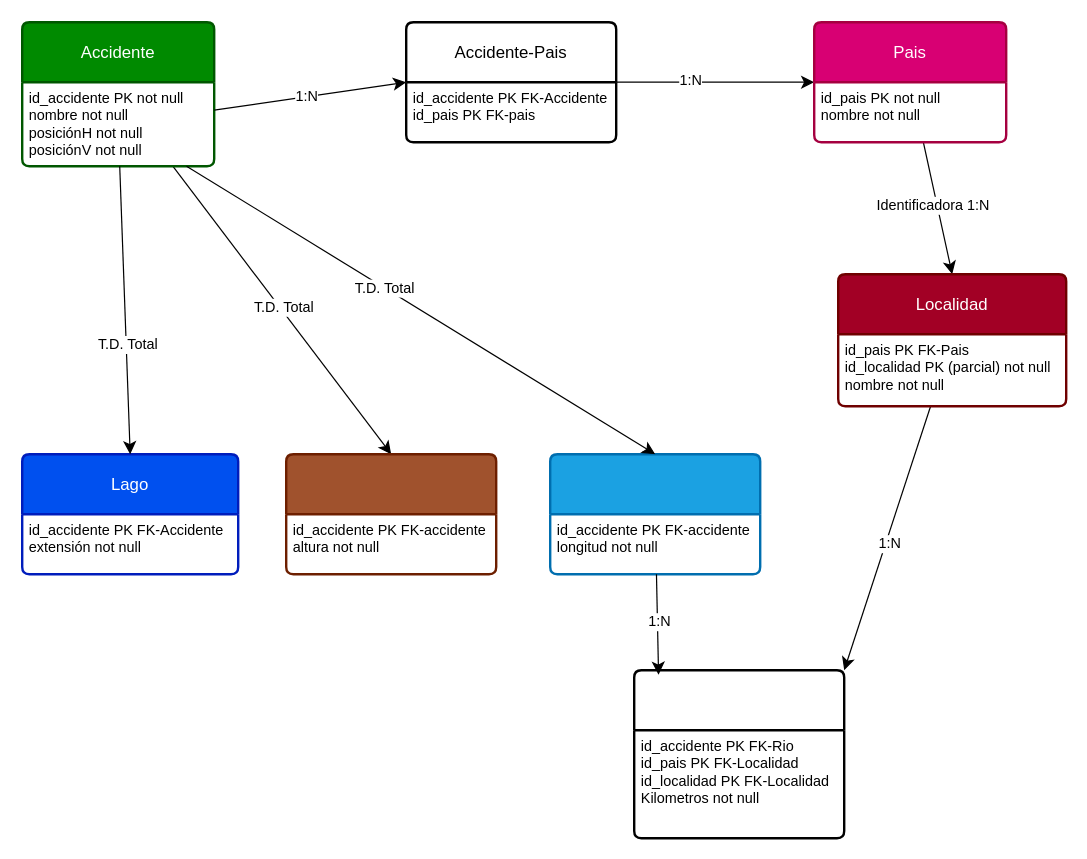
This 1087x859 diagram has some shape labels left out. Here are the shapes that lost their labels. From the top down, the box of each, then its label:
(284, 452, 497, 575): Montaña
(548, 452, 761, 575): Rio
(632, 668, 845, 839): Rio-Localidad
